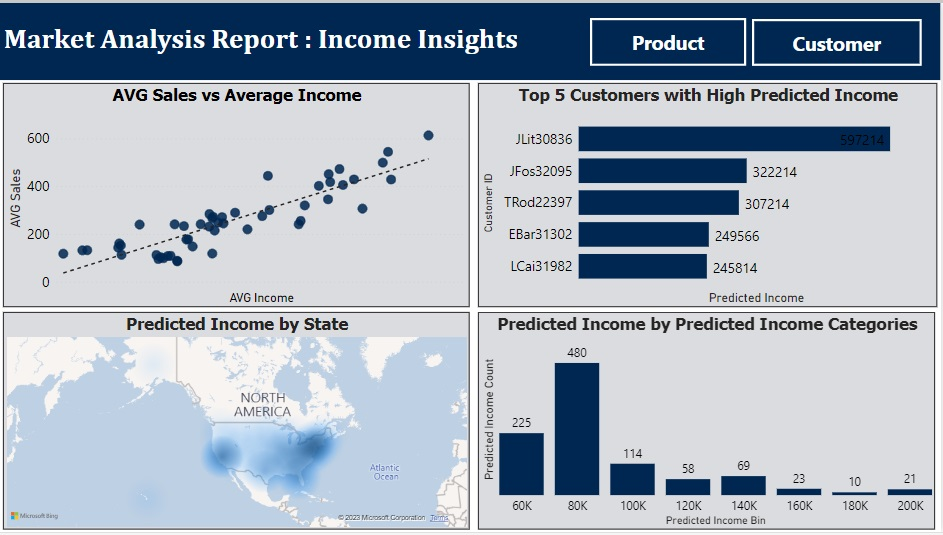

This screenshot's page, from the dashboard's own definition file:
{"tool":"powerbi","page":{"name":"Income","canvas":[1280,720],"ordinal":1},"visuals":[{"type":"shape","box":[0,0,1279.8,104.9],"z":0},{"type":"textbox","box":[0,21.3,734.2,70.9],"z":1000},{"type":"scatterChart","title":"AVG Sales vs Average Income","fields":{"X":["Avg Income by State.Average Income"],"Y":["Key Measures.AVG 6 Months Sales"]},"box":[4.3,109.1,635,304.7],"z":2000},{"type":"map","fields":{"Size":["Sum(Customer List.Predicted Income)"],"Category":["Customer List.State"]},"box":[4.3,420.9,635,296.2],"z":3000},{"type":"clusteredBarChart","title":"Top 5 Customers with High Predicted Income","fields":{"Category":["Customer List.Customer ID"],"Y":["Sum(Customer List.Predicted Income)"]},"box":[650.6,109.1,625,304.7],"z":4000},{"type":"clusteredColumnChart","title":"Predicted Income by Predicted Income Categories","fields":{"Y":["CountNonNull(Customer List.Customer Bin)"],"Category":["Customer List.Customer Bin"]},"box":[650.6,420.9,622.2,296.2],"z":5000},{"type":"actionButton","box":[1023.3,21.3,231,63.8],"z":6000},{"type":"actionButton","box":[803.6,19.8,212.6,65.2],"z":8000}]}

Visuals, with their boxes in screenshot pixels (x1, y1, x2, y2), scaled from the page's 1280x720 canvas onto the 943x535 screenshot:
shape: BBox(0, 0, 942, 78)
textbox: BBox(0, 16, 541, 69)
"AVG Sales vs Average Income" scatterChart: BBox(3, 81, 471, 307)
map - Sum(Customer List.Predicted Income) x Customer List.State: BBox(3, 313, 471, 533)
"Top 5 Customers with High Predicted Income" clusteredBarChart: BBox(479, 81, 940, 307)
"Predicted Income by Predicted Income Categories" clusteredColumnChart: BBox(479, 313, 938, 533)
actionButton: BBox(754, 16, 924, 63)
actionButton: BBox(592, 15, 749, 63)
